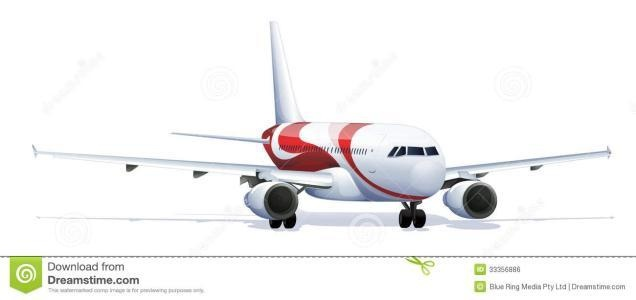airplane: (32, 19, 618, 228)
